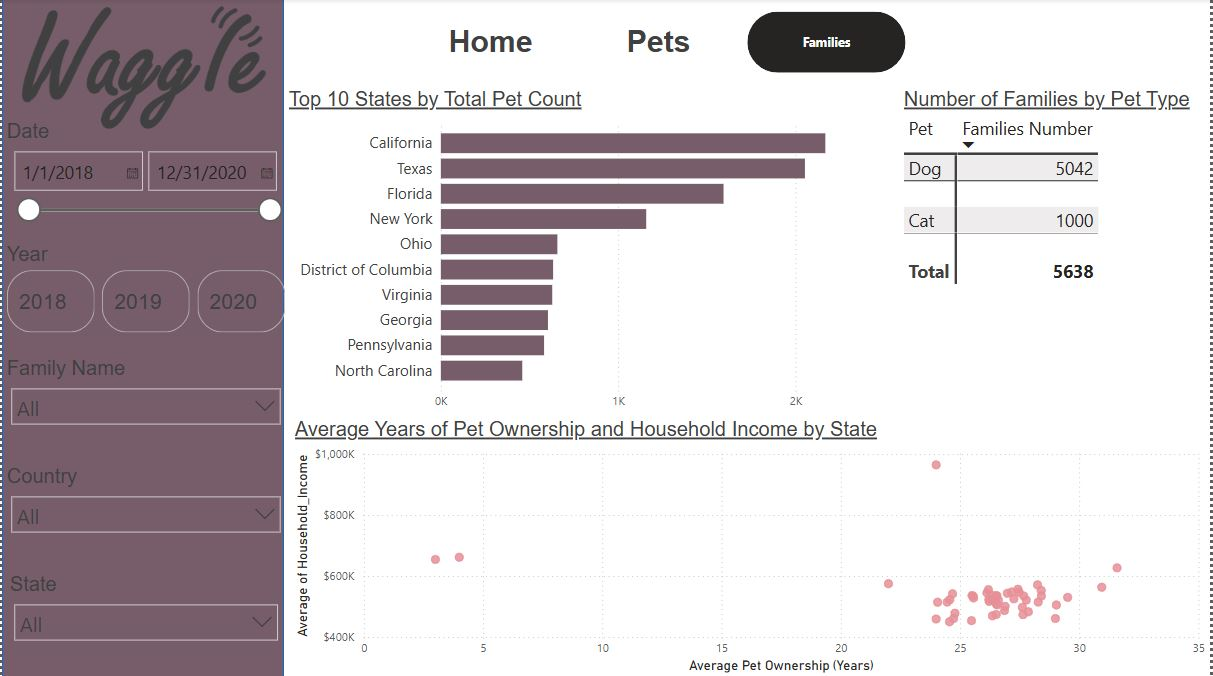

What the dashboard file says about the page in this screenshot:
{"tool":"powerbi","page":{"name":"Families","canvas":[1280,720],"ordinal":2},"visuals":[{"type":"barChart","title":"Top 10 States by Total Pet Count","fields":{"Category":["Family_Data.State"],"Y":["Family_Data.Total_Pets"]},"box":[298.4,95.3,653.1,350],"z":0},{"type":"scatterChart","title":"Average Years of Pet Ownership and Household Income by State","fields":{"Category":["Family_Data.State"],"X":["Family_Data.Years_of_Pet_Ownership"],"Y":["Family_Data.Household_Income"]},"box":[304.7,445.3,975,275],"z":1000},{"type":"shape","box":[0,0,299,720.5],"z":2000},{"type":"pivotTable","title":"Number of Families by Pet Type","fields":{"Rows":["Pet_Data.Pet"],"Values":["Tracker_Data.Family_ID"]},"box":[951.6,95.3,320.3,257.8],"z":3000},{"type":"image","box":[0,1.6,299,143.2],"z":4000},{"type":"advancedSlicerVisual","fields":{"Values":["Date_Table.Year"]},"box":[0,259.3,305.4,100.2],"z":5000},{"type":"slicer","title":"Country","fields":{"Values":["Family_Data.Country"]},"box":[0,494.9,305.1,88.1],"z":6000},{"type":"slicer","title":"Family Name","fields":{"Values":["Family_Data.Family_Name"]},"box":[0,379.7,305.1,100],"z":7000},{"type":"slicer","title":"State","fields":{"Values":["Family_Data.State"]},"box":[3.2,609.2,299,87.5],"z":8000},{"type":"slicer","title":"Date","fields":{"Values":["Date_Table.Date"]},"box":[0,128.8,305.4,132],"z":9000},{"type":"pageNavigator","box":[434.2,14.3,526.5,65.2],"z":10000}]}

Visuals, with their boxes in screenshot pixels (x1, y1, x2, y2), scaled from the page's 1280x720 canvas onto the 1213x676 screenshot:
"Top 10 States by Total Pet Count" barChart: Rect(283, 89, 902, 418)
"Average Years of Pet Ownership and Household Income by State" scatterChart: Rect(289, 418, 1212, 675)
shape: Rect(0, 0, 283, 675)
"Number of Families by Pet Type" pivotTable: Rect(902, 89, 1205, 332)
image: Rect(0, 2, 283, 136)
advancedSlicerVisual - Date_Table.Year: Rect(0, 243, 289, 338)
"Country" slicer: Rect(0, 465, 289, 547)
"Family Name" slicer: Rect(0, 356, 289, 450)
"State" slicer: Rect(3, 572, 286, 654)
"Date" slicer: Rect(0, 121, 289, 245)
pageNavigator: Rect(411, 13, 910, 75)
